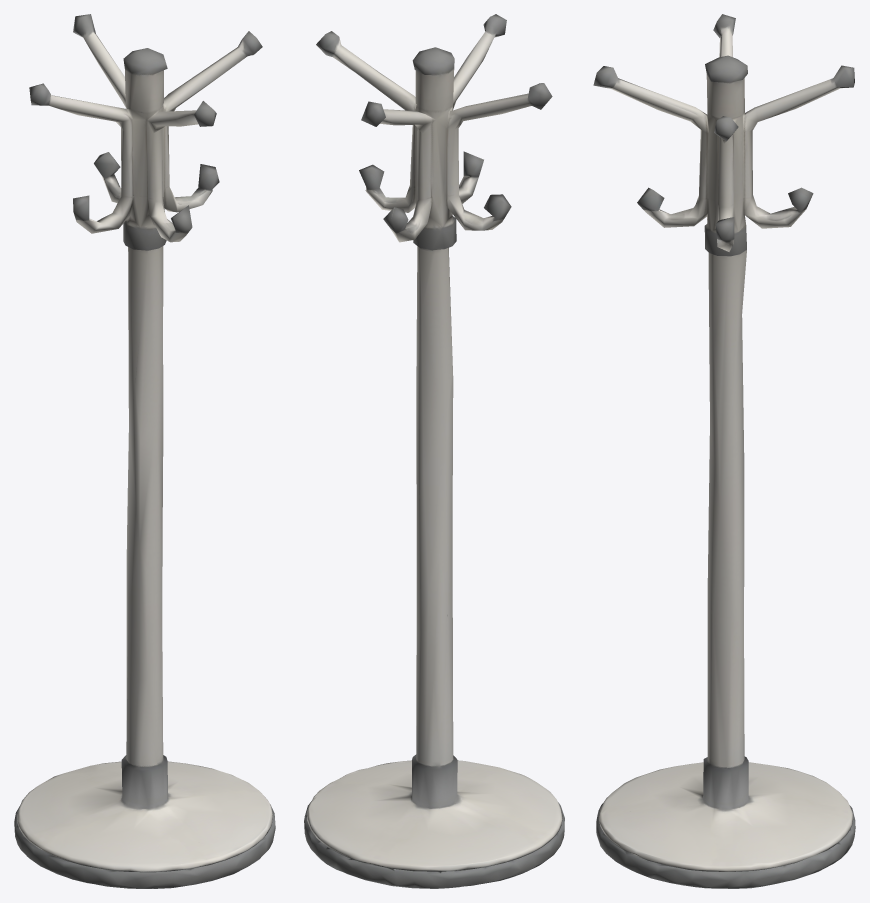
Rendered from ENV_ALL_014_v001_RAW.glb.
3 renders of one model, left to right at view 1: azimuth 30°, elevation 25°; view 2: azimuth 150°, elevation 25°; view 3: azimuth 270°, elevation 25°, orthographic.
Parts seen in each view (by area): view 1: tripo_node_9bcf073d-0cc5-4702-bd05-15cf72c472d3; view 2: tripo_node_9bcf073d-0cc5-4702-bd05-15cf72c472d3; view 3: tripo_node_9bcf073d-0cc5-4702-bd05-15cf72c472d3.
Part boxes in pixels (x1,y1,x2,y2): tripo_node_9bcf073d-0cc5-4702-bd05-15cf72c472d3: [14, 14, 275, 888]; tripo_node_9bcf073d-0cc5-4702-bd05-15cf72c472d3: [304, 14, 564, 888]; tripo_node_9bcf073d-0cc5-4702-bd05-15cf72c472d3: [593, 14, 855, 888].
Bounding box in the file's own units: 0.3019 × 0.9796 × 0.2985.
Materials: 1 (1 with a texture image).
